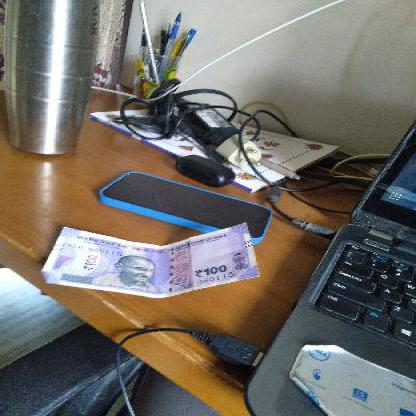New100Front: (38, 229, 250, 290)
